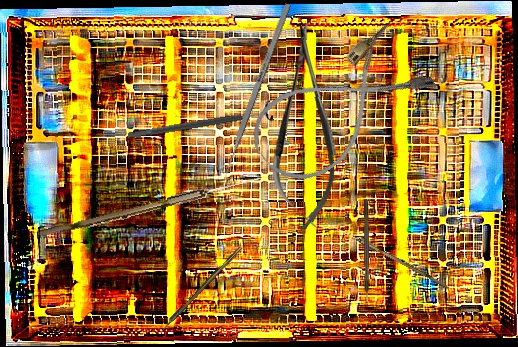Cannula: (239, 17, 440, 198)
Fixation Ring: (126, 98, 274, 148)
Hook Surgical: (156, 245, 243, 336), (364, 199, 369, 310)
Micro Scissor: (271, 22, 339, 230)
Pusher: (218, 3, 292, 186)
Surgical Spoon: (39, 171, 263, 242), (324, 220, 451, 290)
